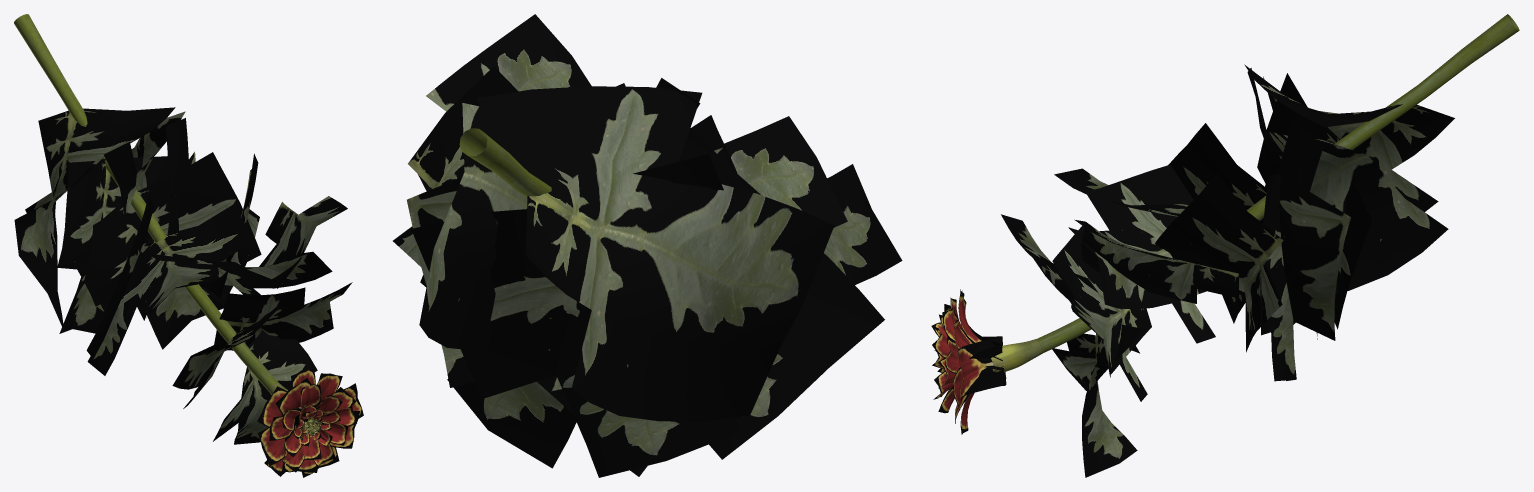
3 views of the same model, side by side, from view 1: azimuth 30°, elevation 25°; view 2: azimuth 150°, elevation 25°; view 3: azimuth 270°, elevation 25° (orthographic). The views are drawn at different scales.
Visible parts, largest first — view 1: FL57Leaf3, FL57Flowerv5, FL57Branch1; view 2: FL57Leaf3, FL57Branch1; view 3: FL57Leaf3, FL57Flowerv5, FL57Branch1, FL57Flower1.
Part boxes in pixels (x1,y1,x2,y2): FL57Leaf3: (14,107,352,444); FL57Flowerv5: (257,368,363,477); FL57Branch1: (14,14,278,391); FL57Leaf3: (393,14,902,477); FL57Branch1: (459,128,551,196); FL57Leaf3: (1001,64,1454,477); FL57Flowerv5: (931,289,1006,434); FL57Branch1: (1037,14,1519,352); FL57Flower1: (991,339,1043,372).
Bounding box in the file's own units: 0.0503 × 0.0578 × 0.0761.
Materials: 4 (4 with a texture image).
